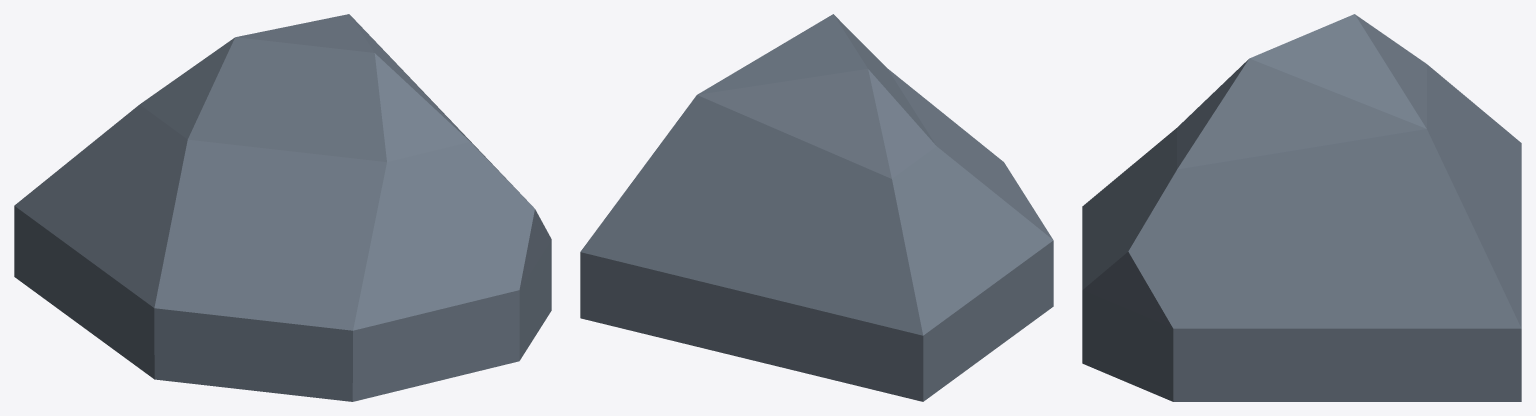
The model's file is Stone_D.fbx.
3 renders of one model, left to right at view 1: azimuth 30°, elevation 25°; view 2: azimuth 150°, elevation 25°; view 3: azimuth 270°, elevation 25°, orthographic. The views are drawn at different scales.
Parts seen in each view (by area): view 1: Stone_D; view 2: Stone_D; view 3: Stone_D.
Part boxes in pixels (x1,y1,x2,y2): Stone_D: (14, 14, 551, 401); Stone_D: (580, 14, 1053, 401); Stone_D: (1082, 14, 1521, 401).
Bounding box in the file's own units: 15.15 × 10.39 × 15.15.
Materials: 1 (1 with a texture image).
